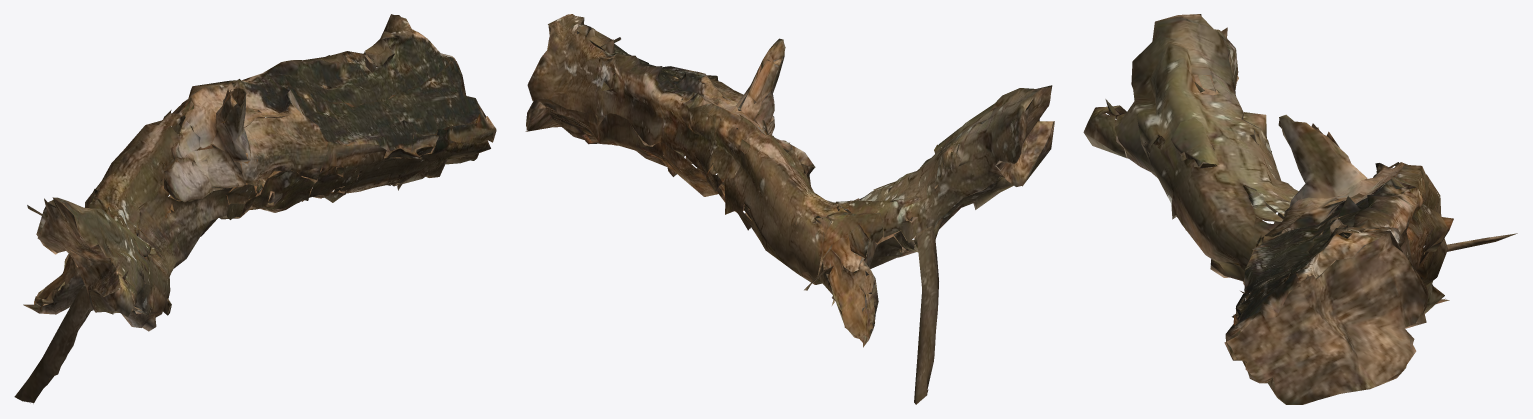
Rendered from seating_log.glb.
3 views of the same model, side by side, from view 1: azimuth 30°, elevation 25°; view 2: azimuth 150°, elevation 25°; view 3: azimuth 270°, elevation 25° (orthographic). The views are drawn at different scales.
Visible parts, largest first — view 1: seating_log; view 2: seating_log; view 3: seating_log.
Part boxes in pixels (x1,y1,x2,y2): seating_log: (14, 14, 496, 403); seating_log: (525, 14, 1054, 404); seating_log: (1083, 14, 1517, 404).
Size of the model in its own units: 1 by 0.62 by 0.68.
1 material, 1 textured.
